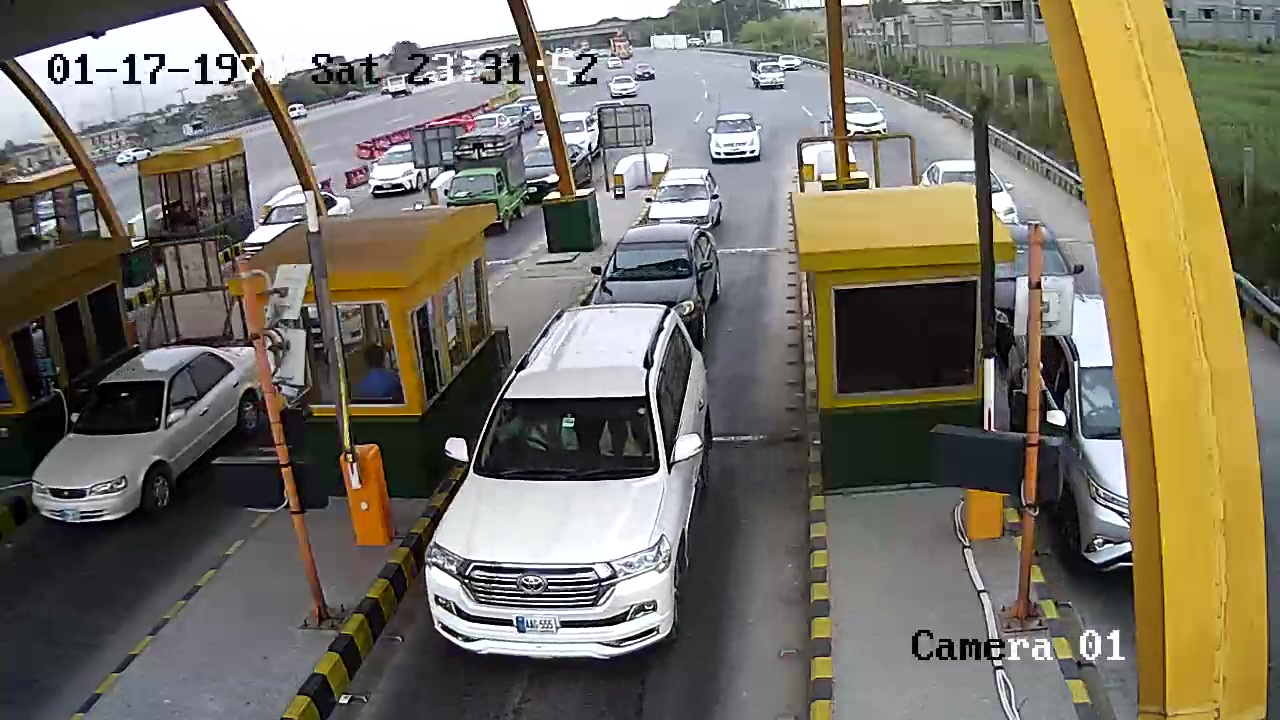F1: (410, 304, 719, 667)
